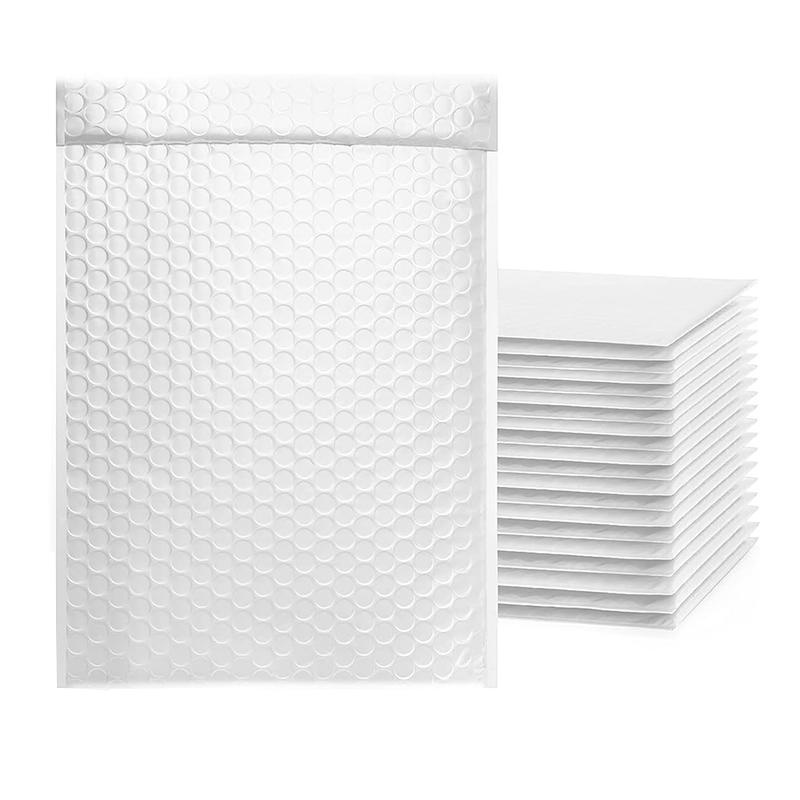Parcel: (56, 79, 496, 685), (497, 270, 757, 626)
